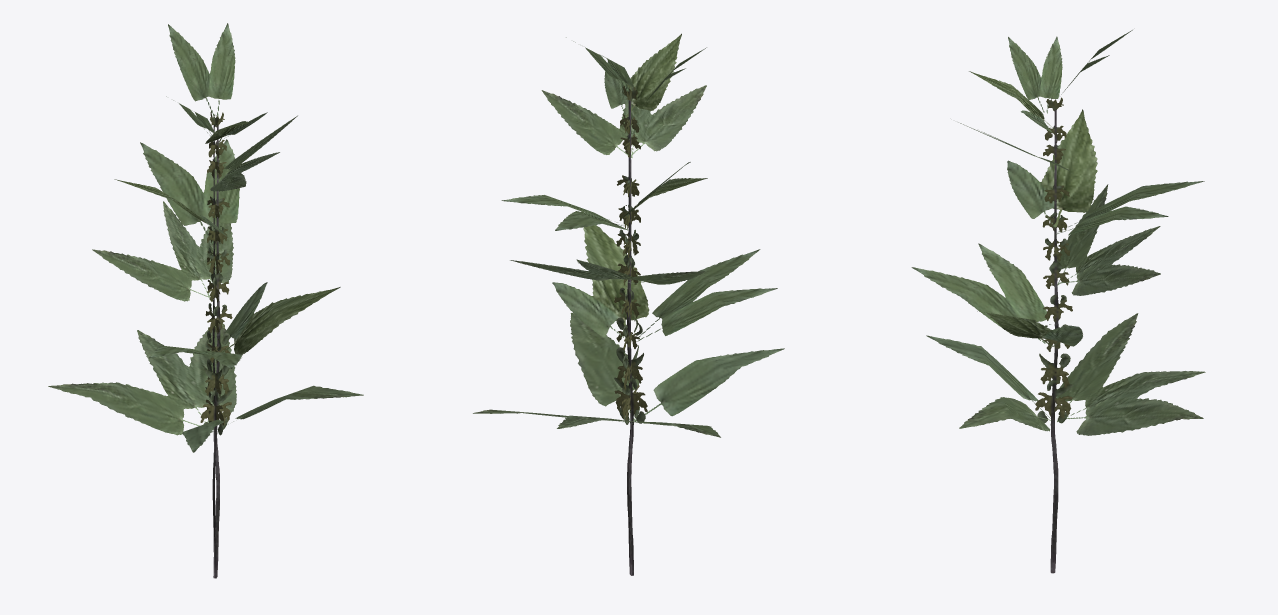
Rendered from SM_Nettle_A.fbx.
3 renders of one model, left to right at view 1: azimuth 30°, elevation 25°; view 2: azimuth 150°, elevation 25°; view 3: azimuth 270°, elevation 25°, orthographic. The views are drawn at different scales.
Parts seen in each view (by area): view 1: SM_Nettle_A; view 2: SM_Nettle_A; view 3: SM_Nettle_A.
Boxes of the visible parts, box(x1,y1,x2,y2) form: SM_Nettle_A: box(48, 23, 363, 578); SM_Nettle_A: box(473, 33, 784, 575); SM_Nettle_A: box(911, 30, 1205, 573).
Bounding box in the file's own units: 33.19 × 60.12 × 38.73.
